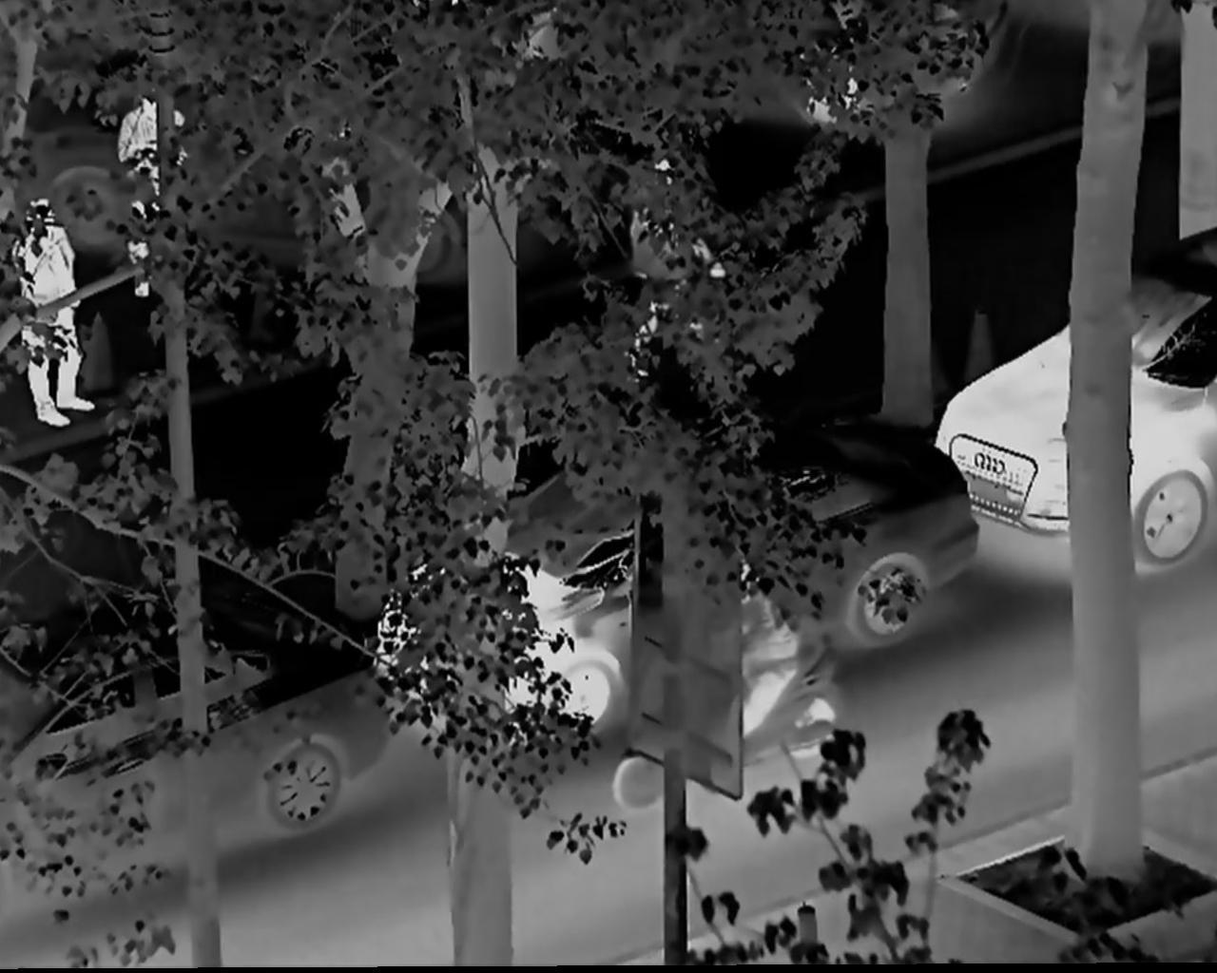person: (625, 171, 728, 396), (117, 83, 200, 306), (21, 202, 92, 429)
